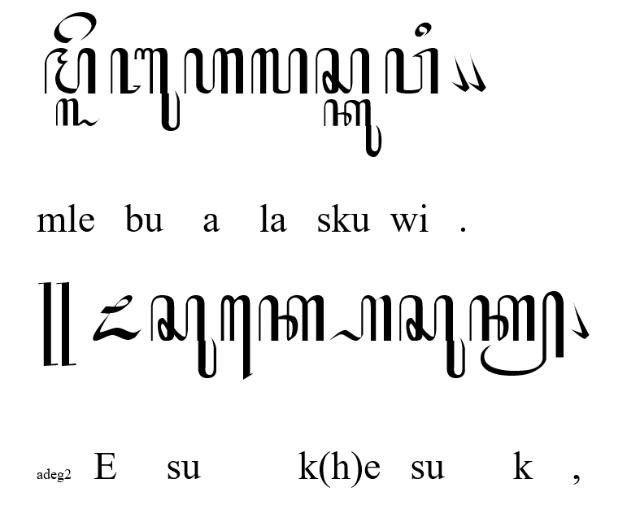-k: (468, 290, 564, 376)
E: (93, 294, 141, 342)
_h: (329, 294, 391, 342)
_l: (56, 99, 100, 127)
adeg2: (38, 282, 76, 366)
bu: (110, 47, 180, 131)
e: (53, 11, 97, 43)
e1: (221, 296, 253, 380)
h: (184, 47, 246, 95)
i: (414, 22, 432, 36)
k: (258, 294, 324, 342)
kom: (570, 299, 590, 339), (450, 53, 470, 91), (468, 53, 487, 93)
ku: (322, 98, 382, 158)
l: (250, 48, 308, 94)
m: (44, 47, 96, 95)
s: (314, 48, 370, 94)
su: (150, 295, 218, 379), (398, 294, 466, 378)
w: (385, 48, 439, 94)
